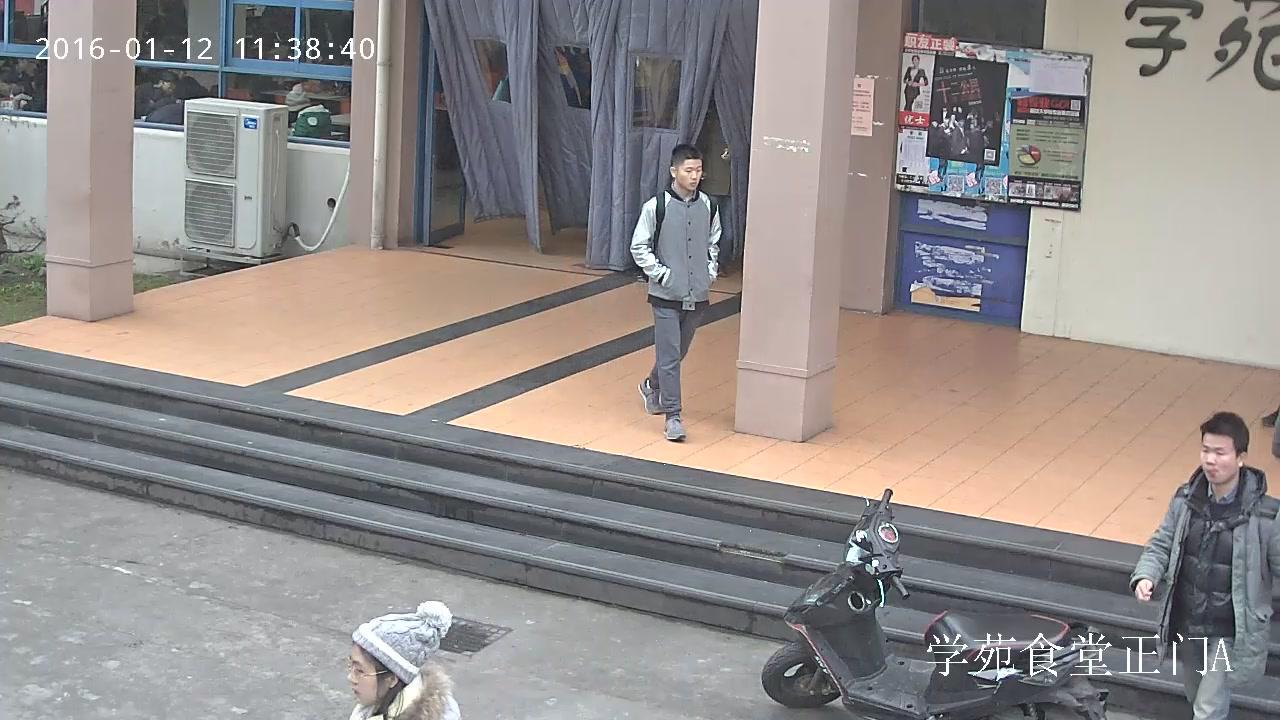person: (1127, 411, 1280, 718), (629, 142, 721, 442), (284, 82, 331, 138), (135, 71, 181, 120), (902, 56, 928, 111), (20, 71, 46, 113)
